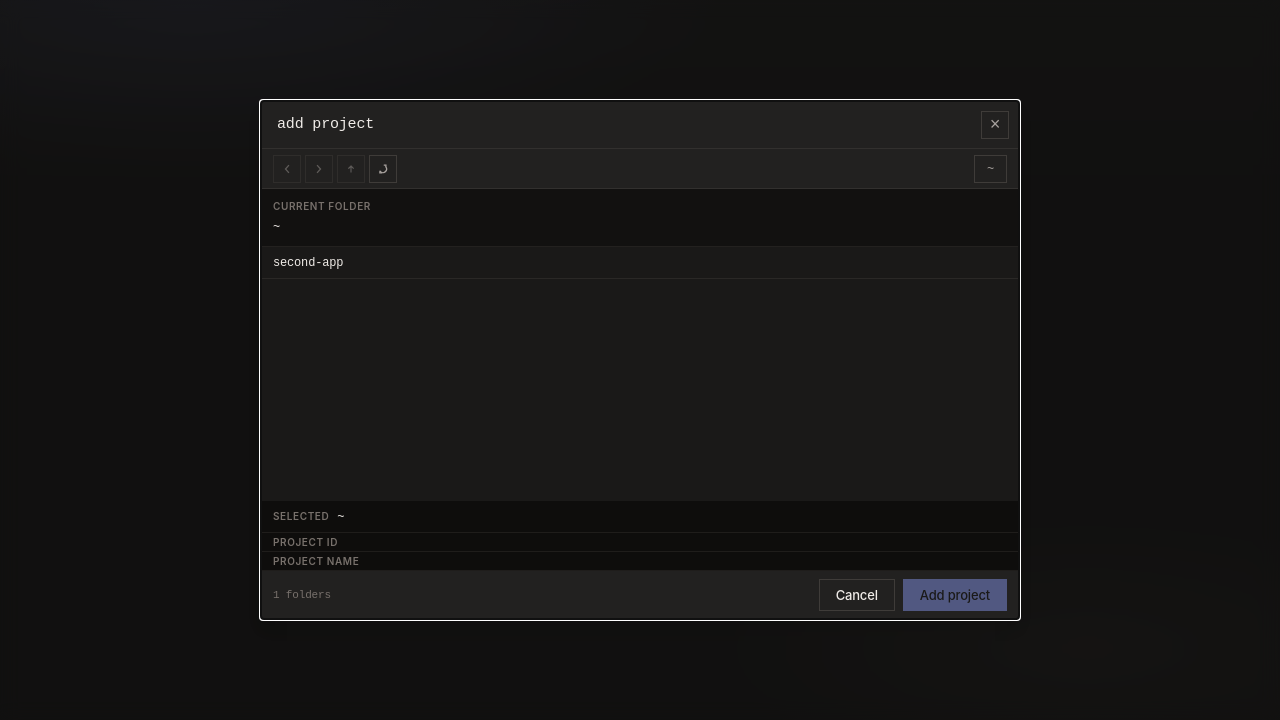
Test: AddProjectModal › offers opening the existing project or using a suffixed project ID when the server returns 409
This screenshot has width=1280, height=720.
Step 1. Click the button "second-app" → click(308, 262), box [261,247,1019,279]
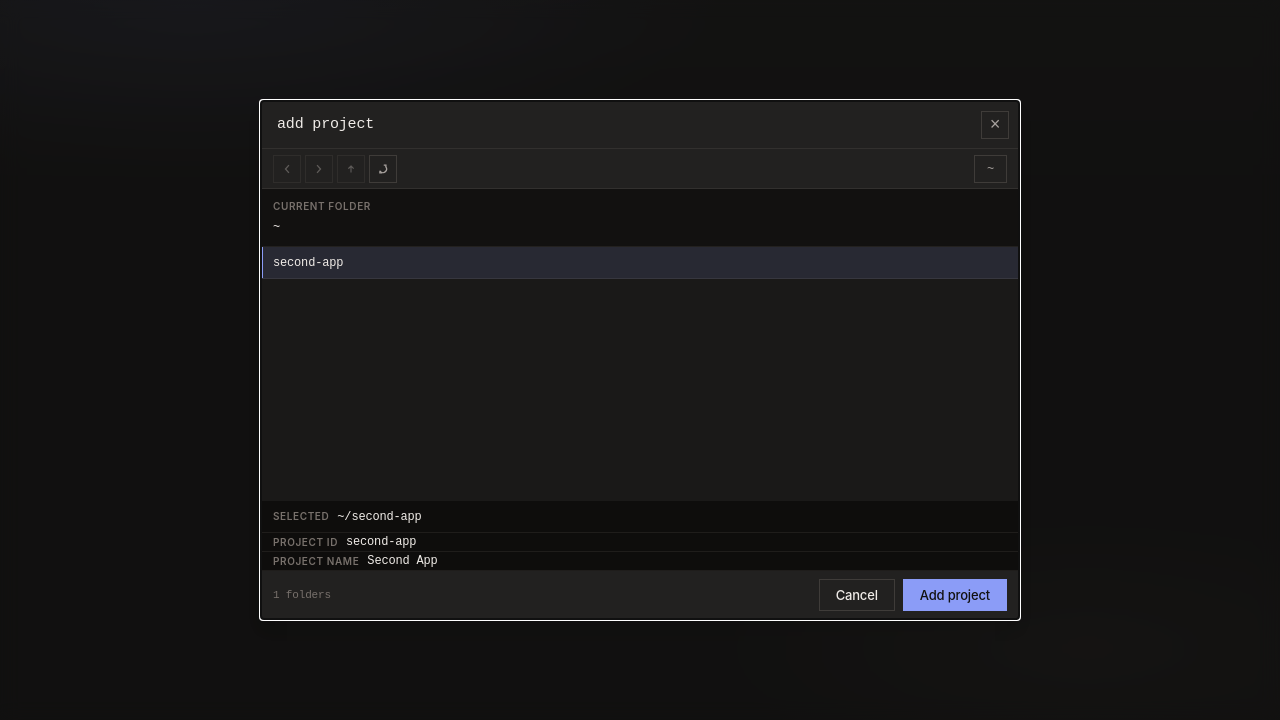
Step 2. Click the button "Add project" → click(955, 595), box [903,579,1007,611]
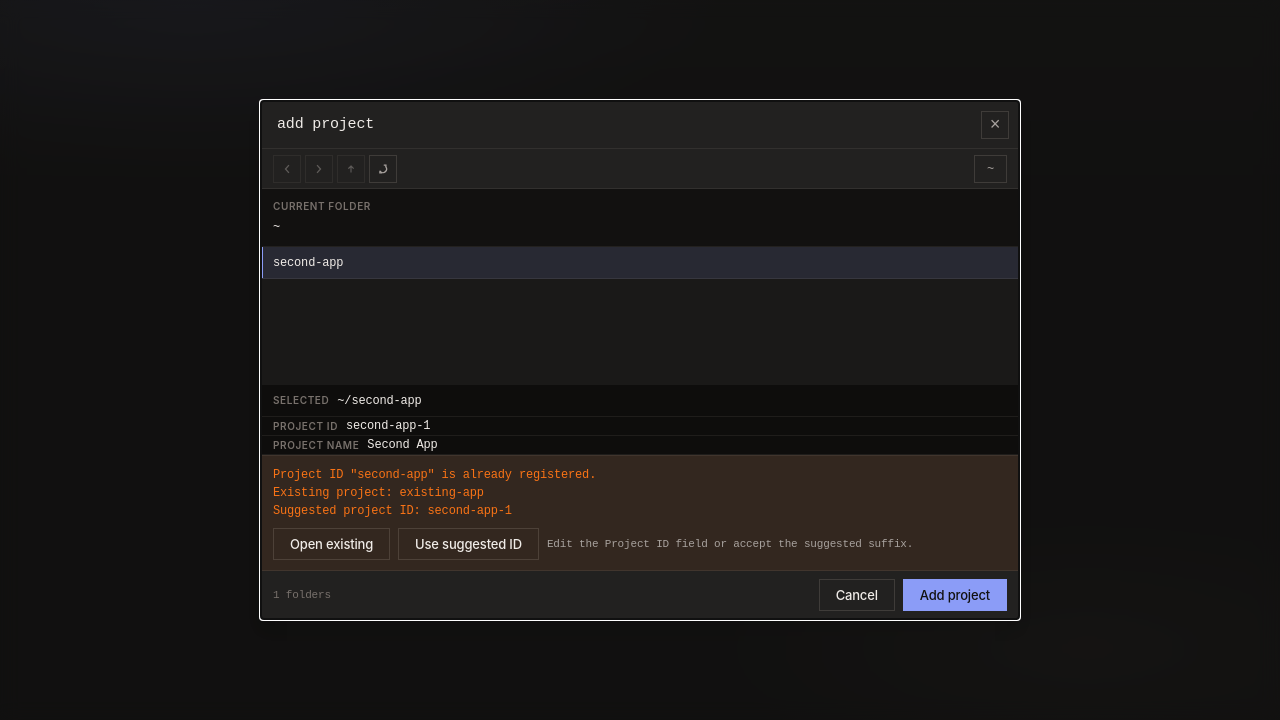
Expected: the button "Open existing" is shown, [273,528,390,560]
Expected: the button "Use suggested ID" is shown, [398,528,539,560]
Expected: the field labelled "Project ID" holds "second-app-1", [346,417,498,435]
